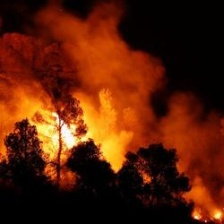fire: (46, 110, 82, 152), (191, 207, 224, 222)
smoke: (73, 10, 157, 92)
